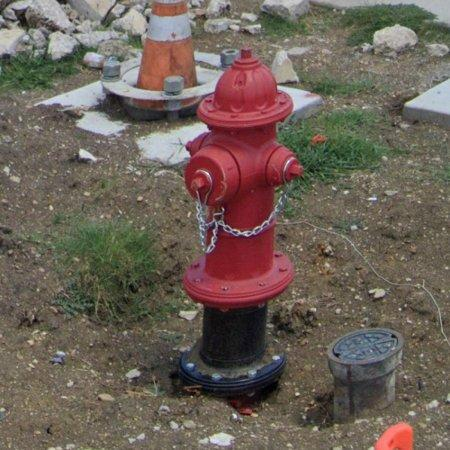a fire hydrant: (180, 48, 304, 396)
